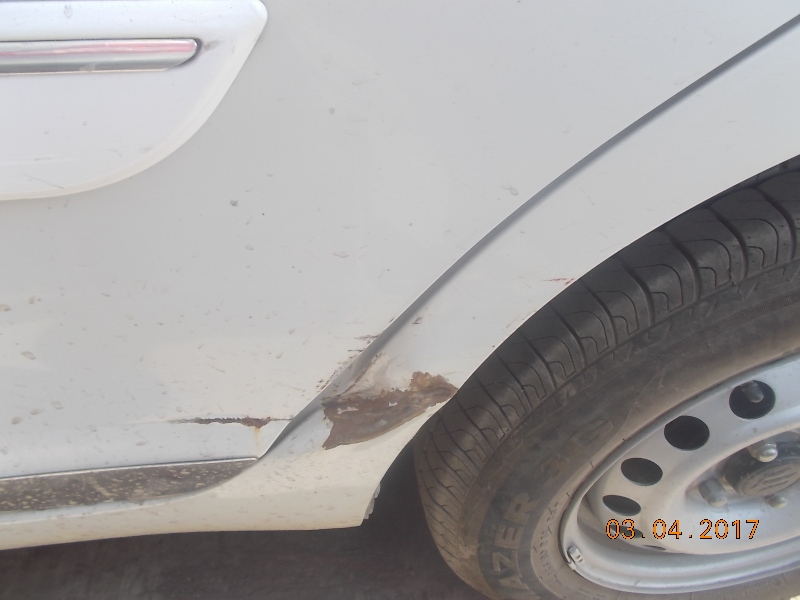Scratch_or_spot: (329, 370, 445, 432), (174, 404, 267, 434)
